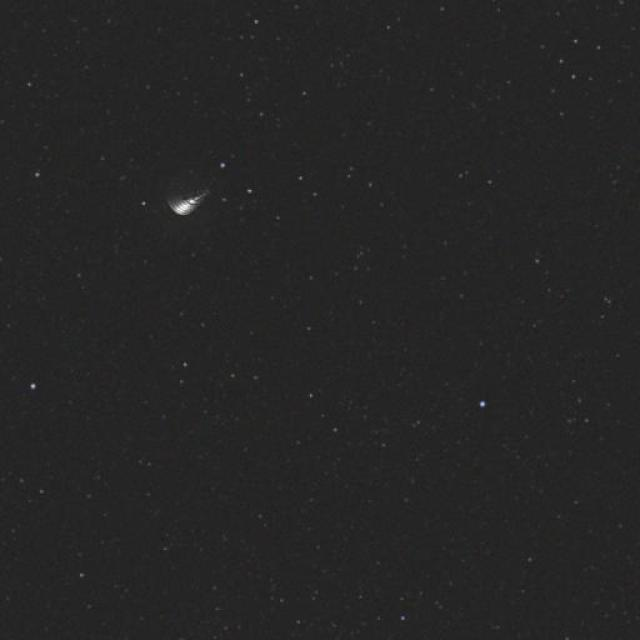debris: (155, 168, 223, 226)
